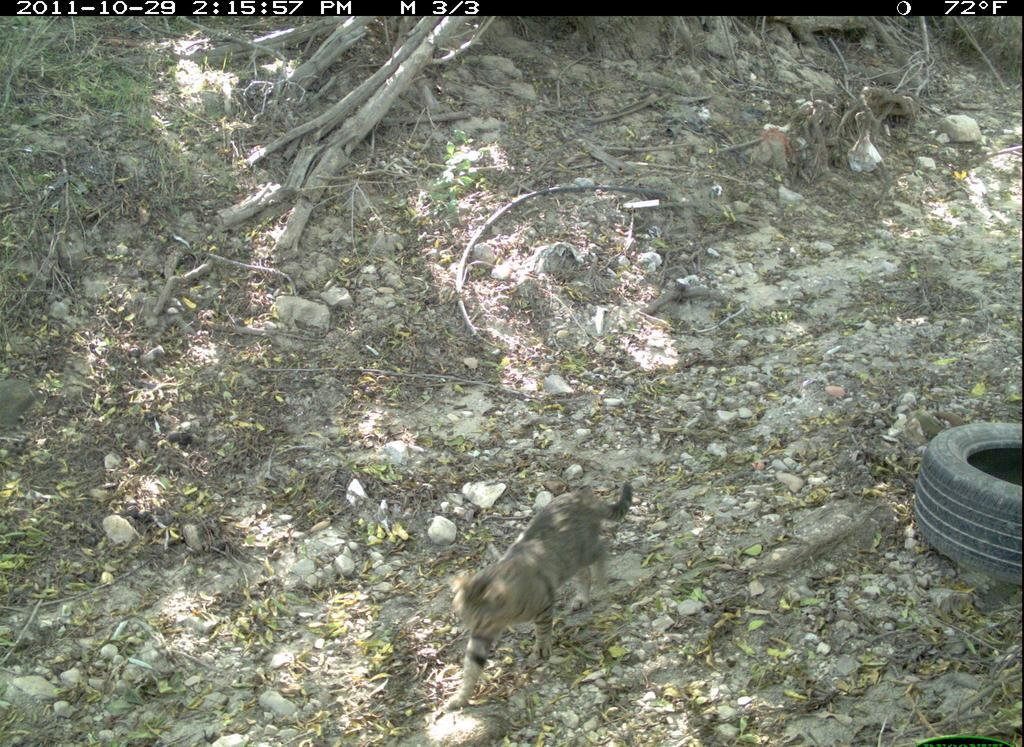cat: (436, 477, 646, 717)
